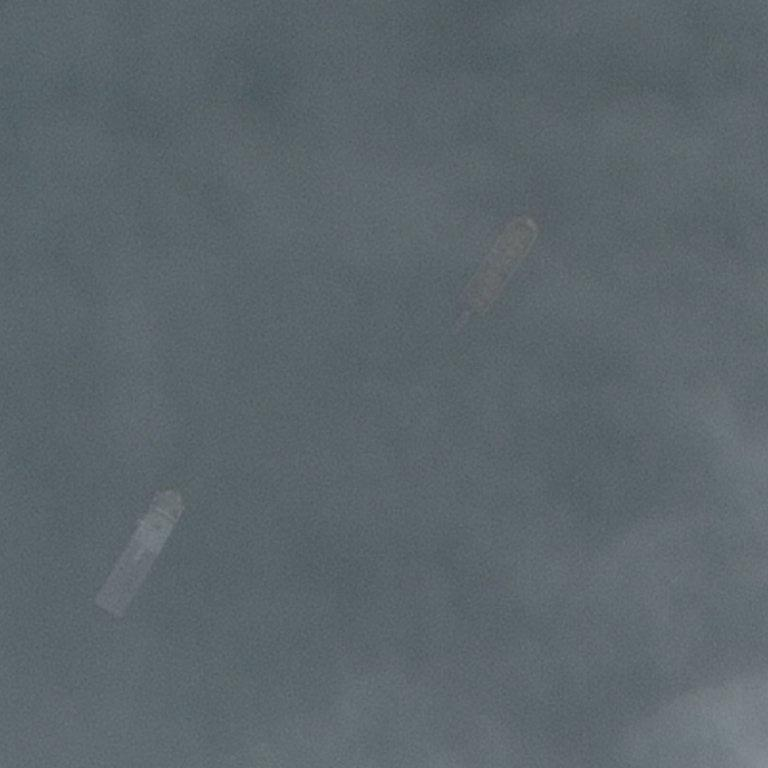ship: (90, 480, 193, 624), (419, 209, 506, 319), (450, 307, 473, 341)
